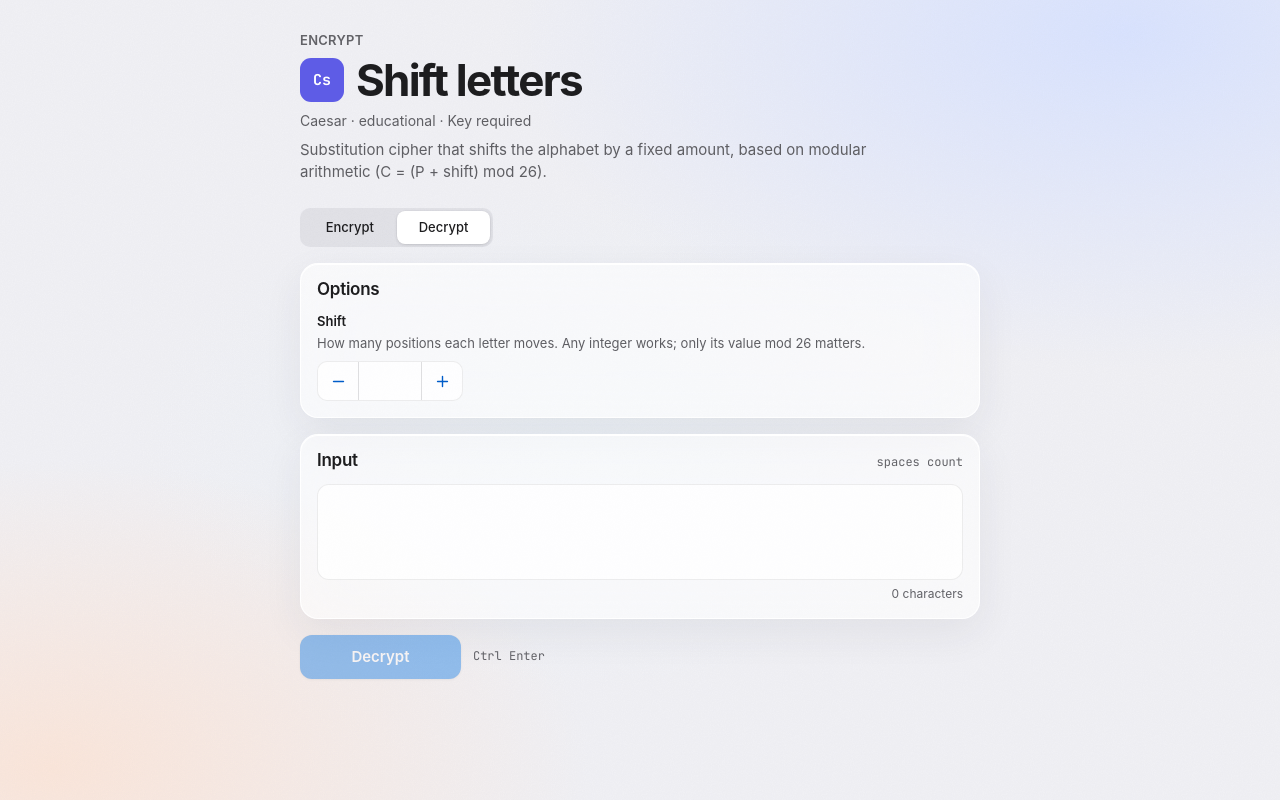
Workbench › ?mode=decrypt preselects Decrypt and changing mode updates the URL
The image size is (1280, 800).
Check: the heading "Shift letters" is shown, box [356,57,582,103]
Check: the button "Decrypt" is shown, box [300,635,461,679]
Click the radio button labelled "Encrypt": (350, 227) [303,211,397,244]
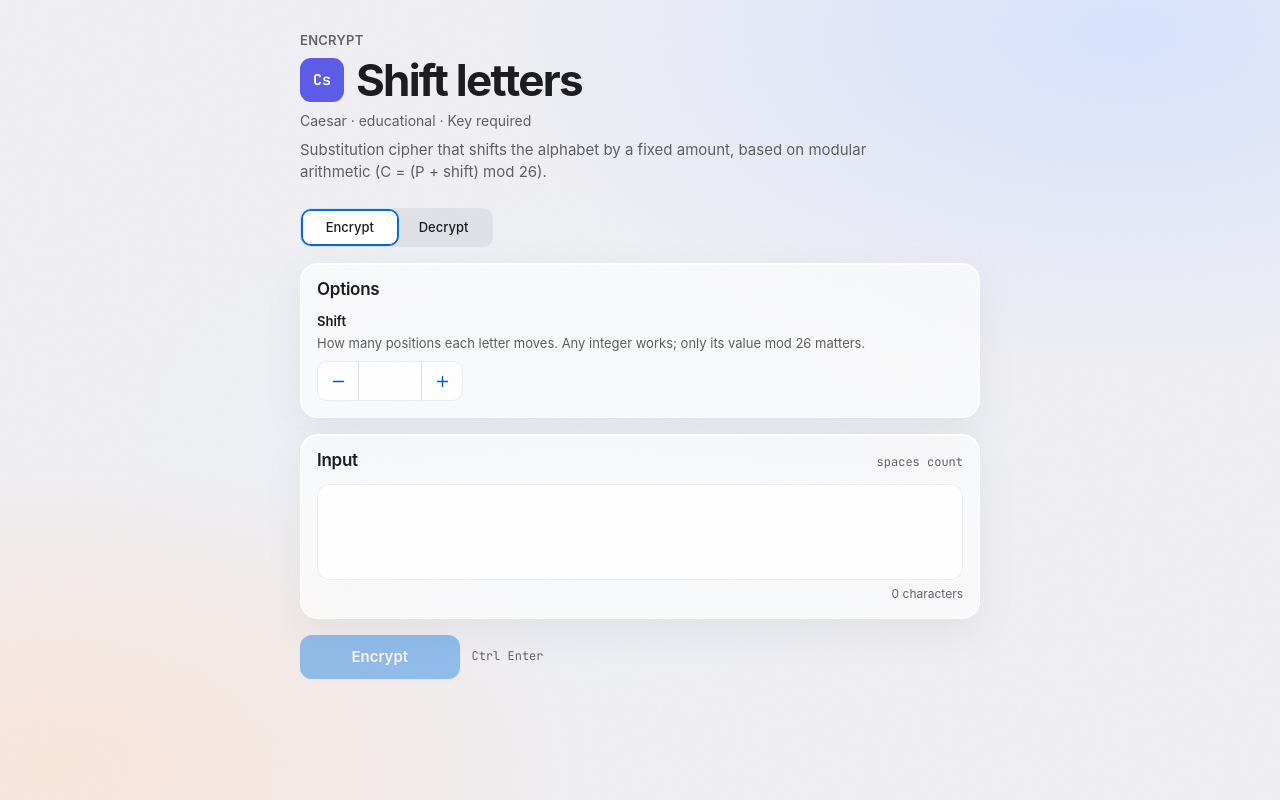
Check: the button "Encrypt" is shown, box [300,635,460,679]
